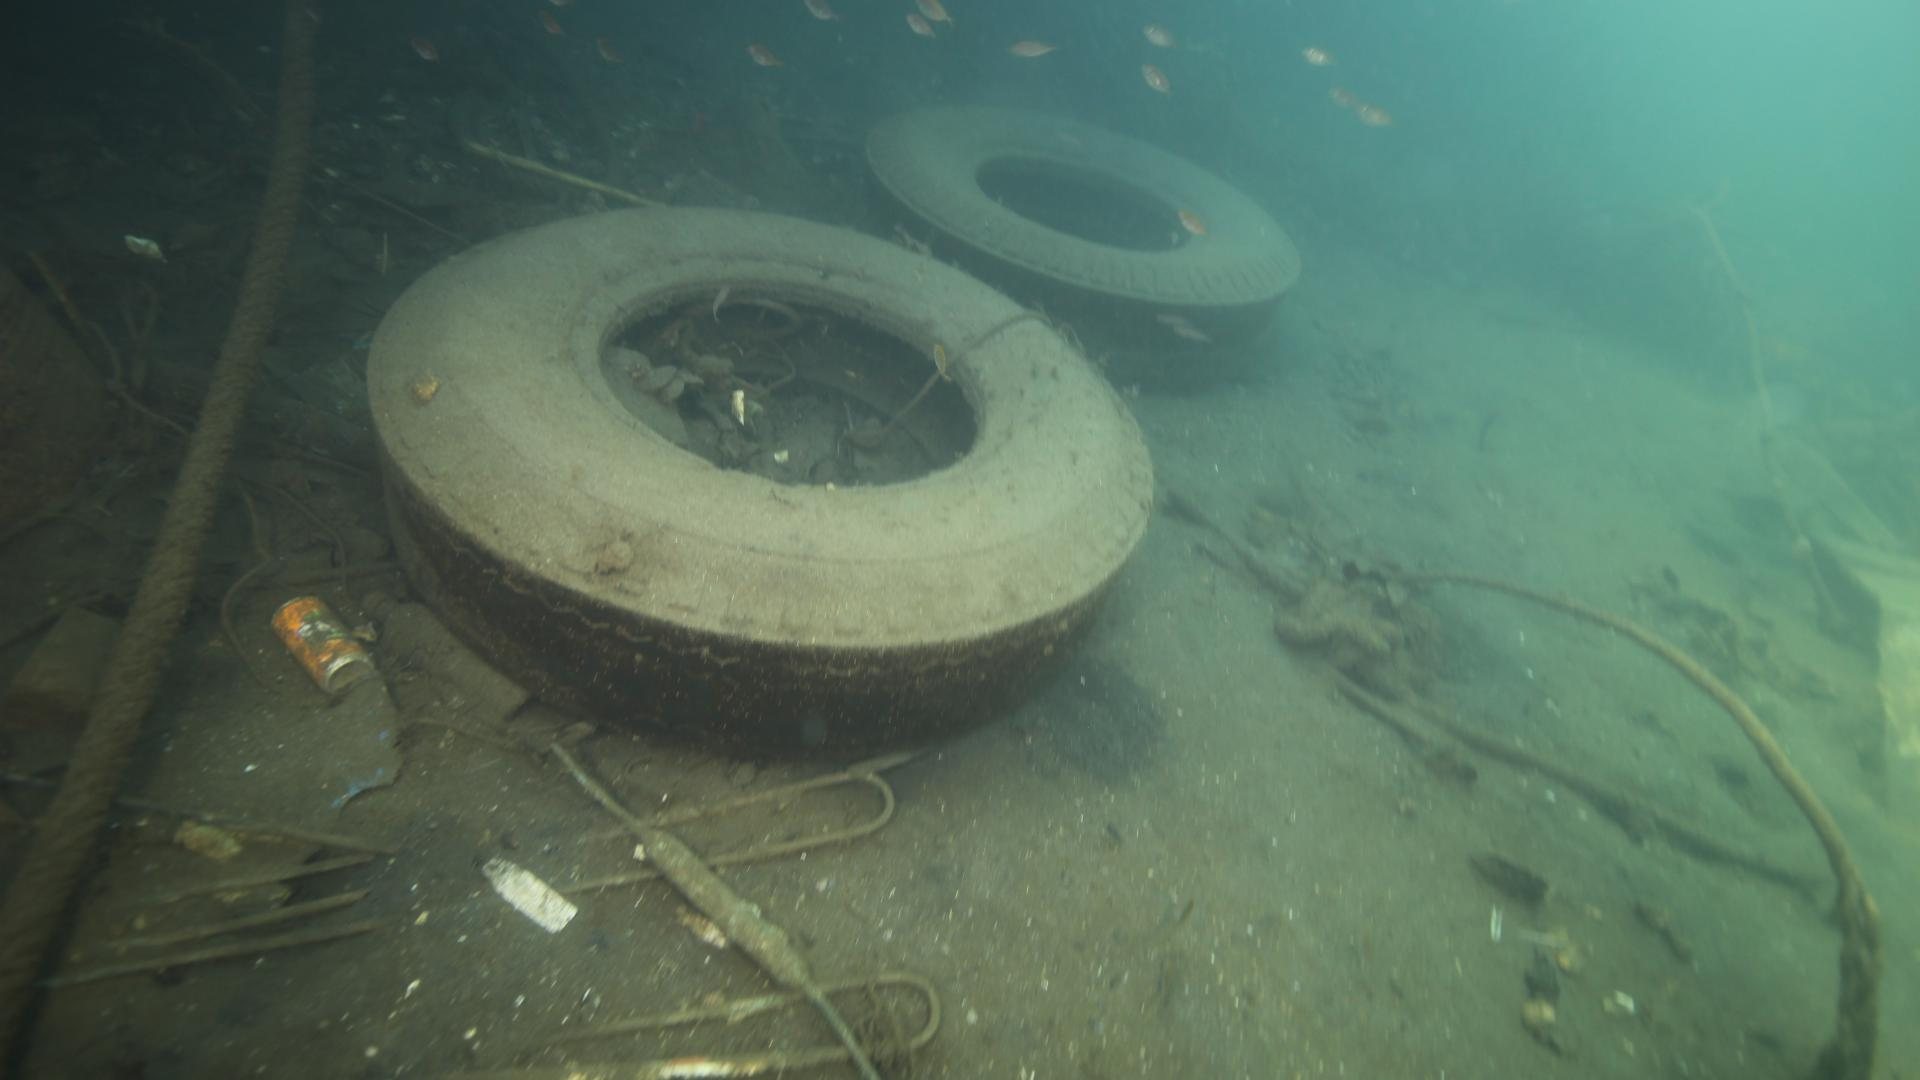rope: (0, 0, 310, 1055), (1400, 568, 1851, 881)
tire: (357, 200, 1153, 762), (864, 100, 1303, 353)
